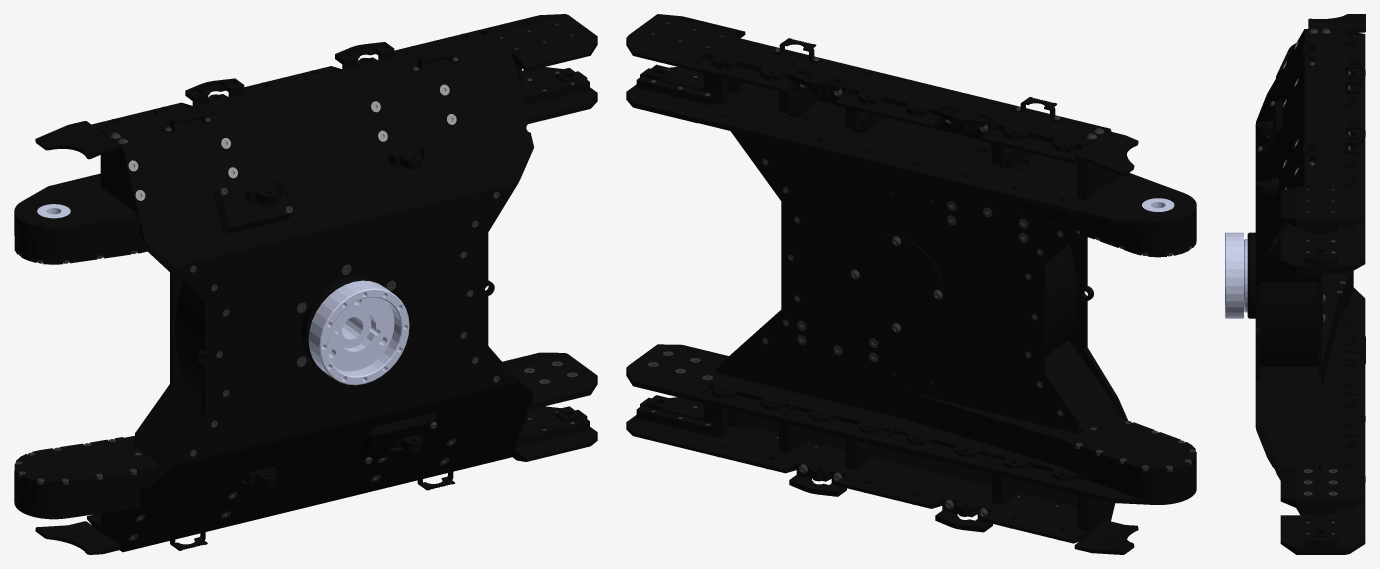
The model's file is lower_carriage_Mesh.obj.
3 views of the same model, side by side, from view 1: azimuth 30°, elevation 25°; view 2: azimuth 150°, elevation 25°; view 3: azimuth 270°, elevation 25° (orthographic). The views are drawn at different scales.
Bounding box in the file's own units: 0.344 × 0.25 × 0.0898.
